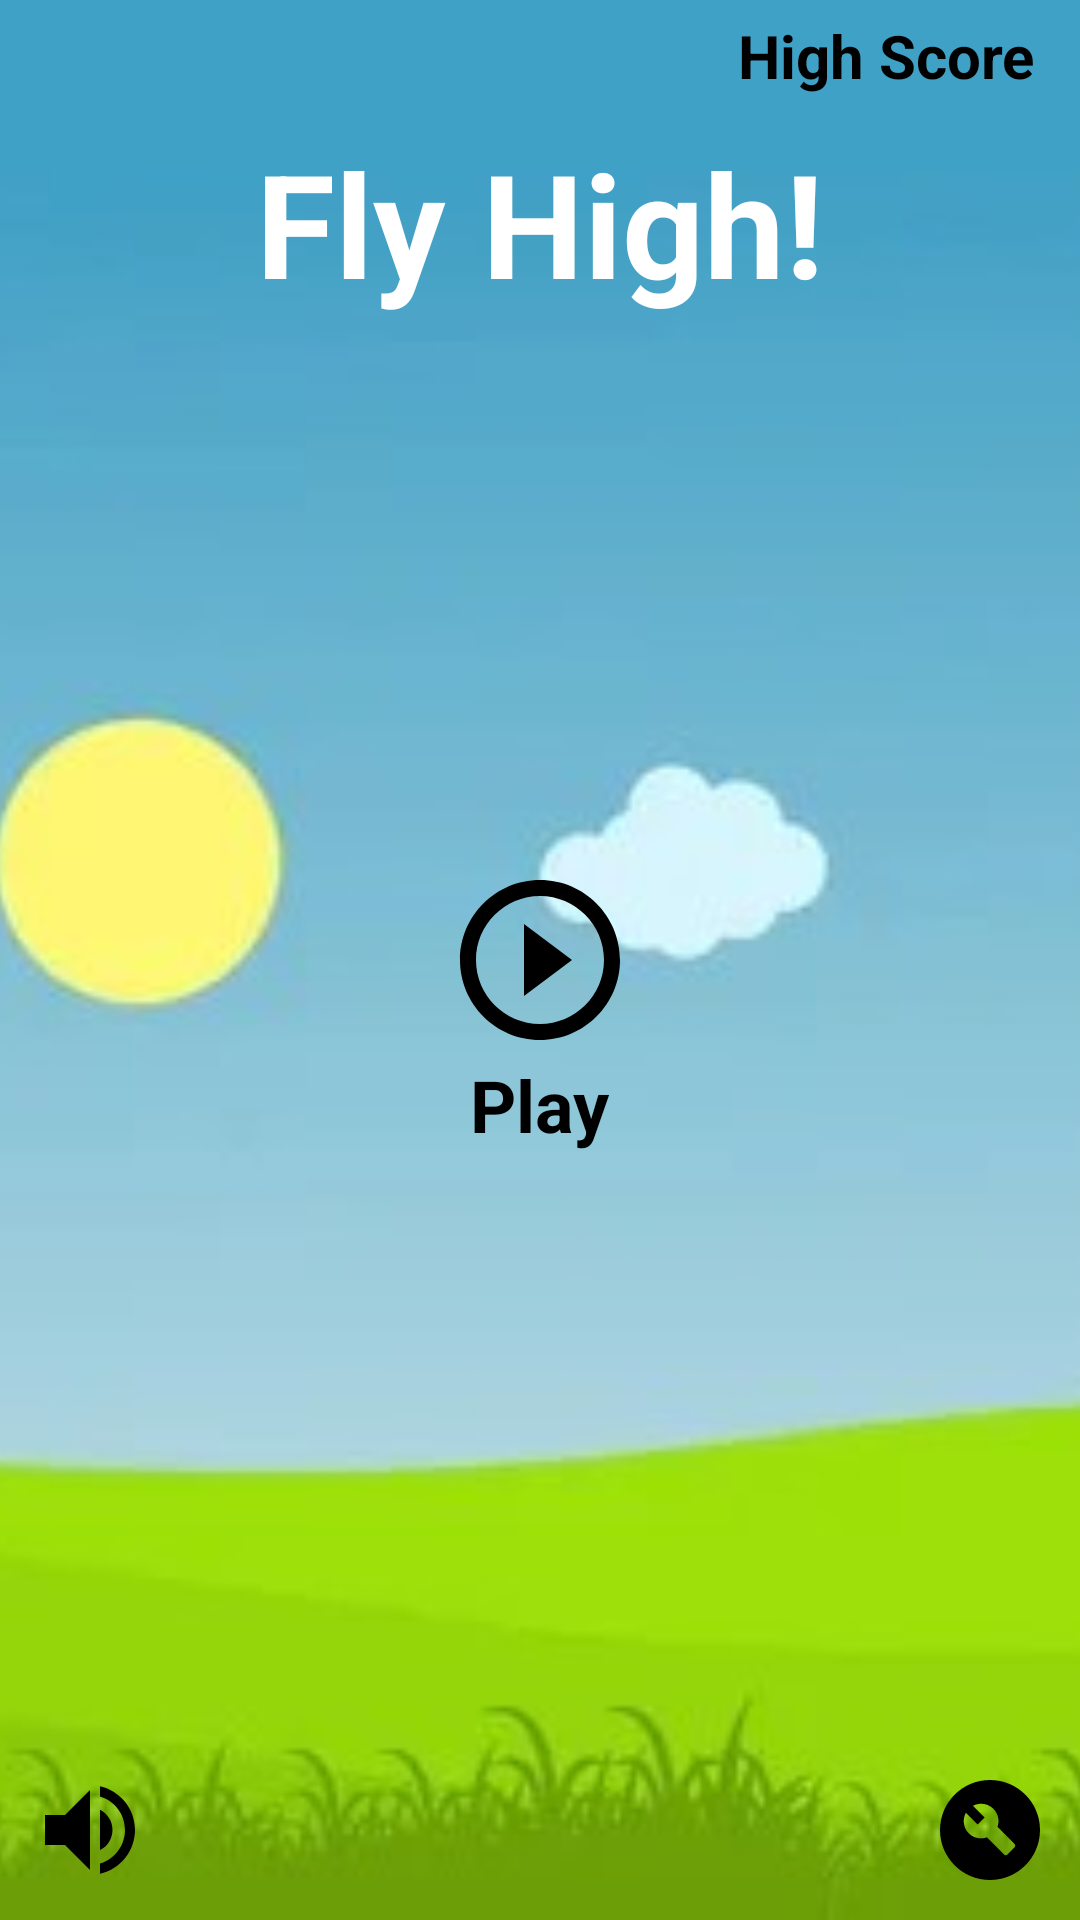

Icon click points for this 1080w x 1920h phone screenshot, format (x=x, y=y):
build circle: (x=990, y=1830)
volume up: (x=90, y=1822)
